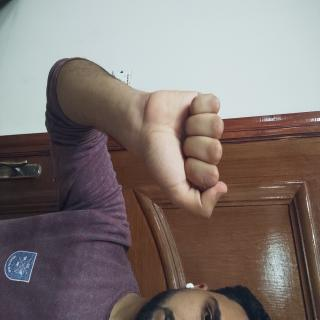SAD: (60, 119, 169, 247)
